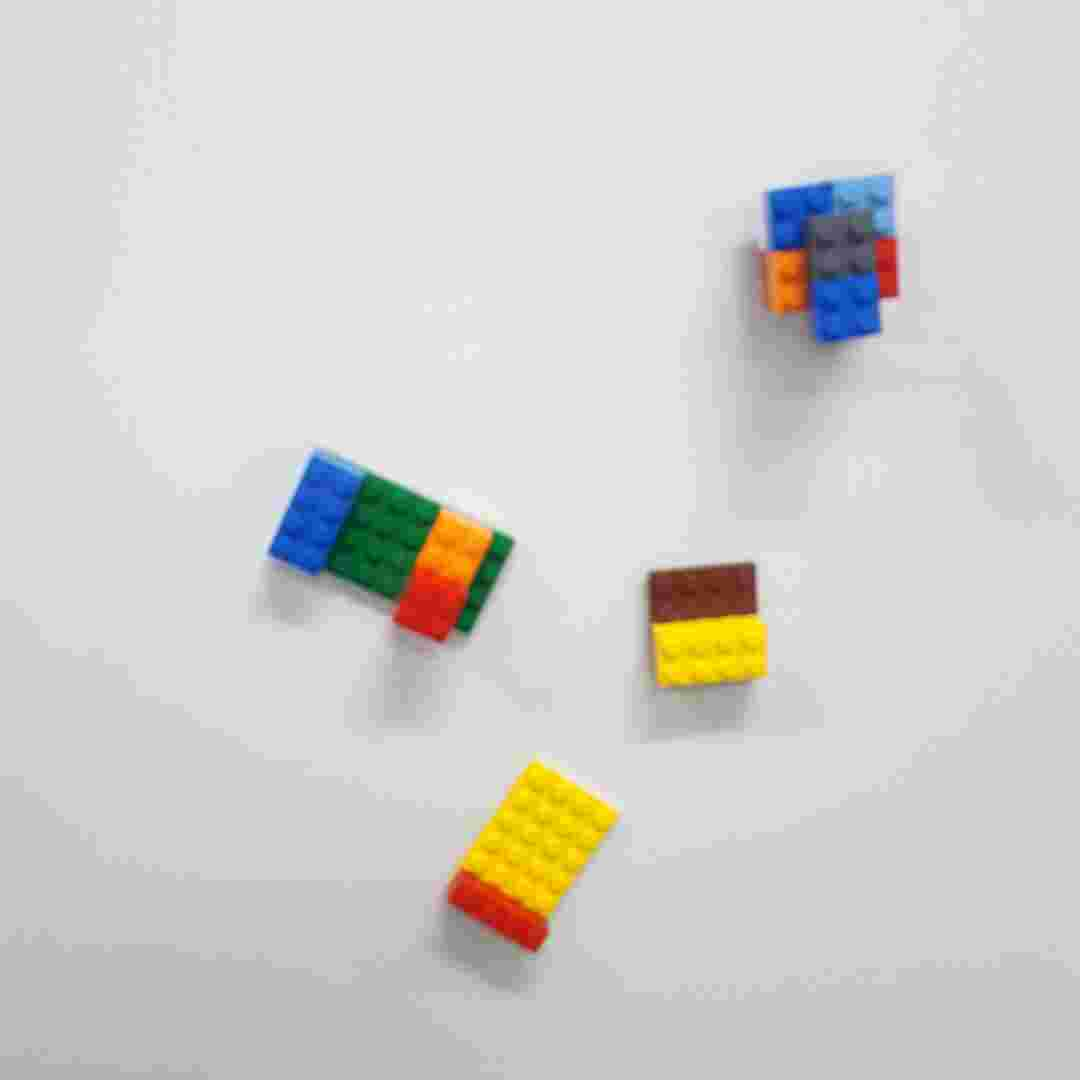LEGO: (254, 447, 524, 641), (435, 749, 629, 954), (752, 171, 909, 345), (636, 560, 775, 690)
